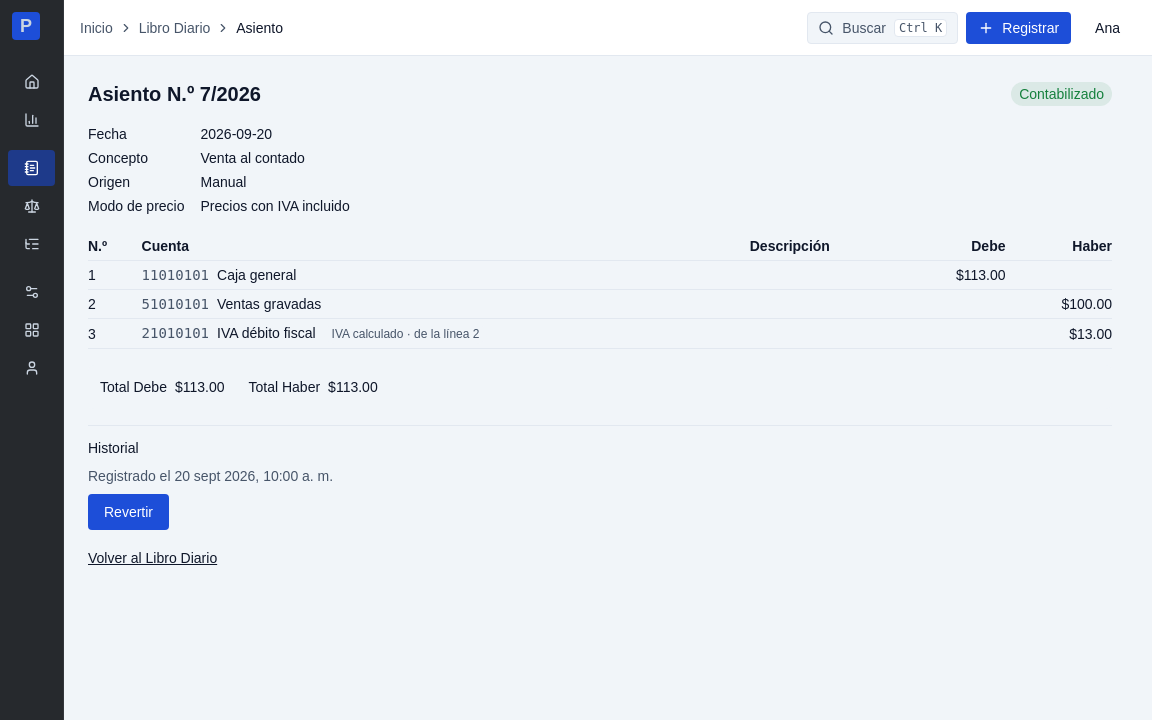
Scenario: detalle de un asiento › no permite una fecha anterior al asiento original (CON-018) y muestra los errores del backend
The width and height of the screenshot is (1152, 720).
Click the button "Revertir" at (128, 512), box [88,494,169,530]
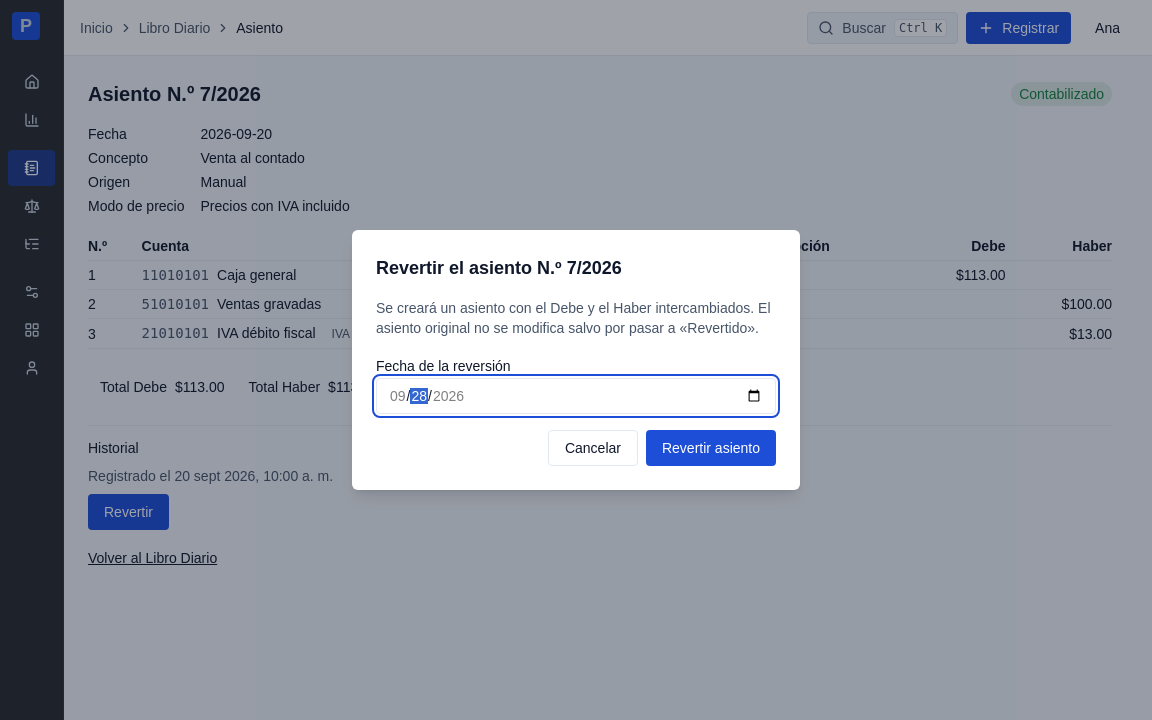
Clear the date field labelled "Fecha de la reversión" at (576, 396), box [376,378,776,414]
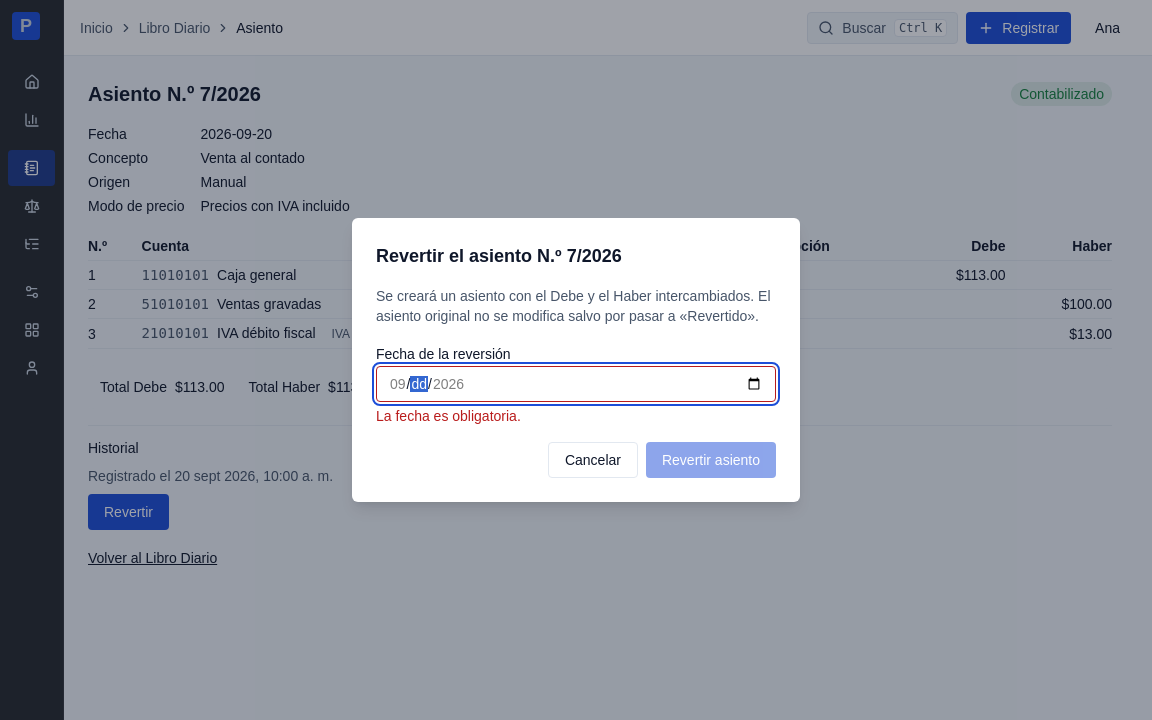
Type "2026-09-19" into the date field labelled "Fecha de la reversión" at (576, 384), box [376,366,776,402]
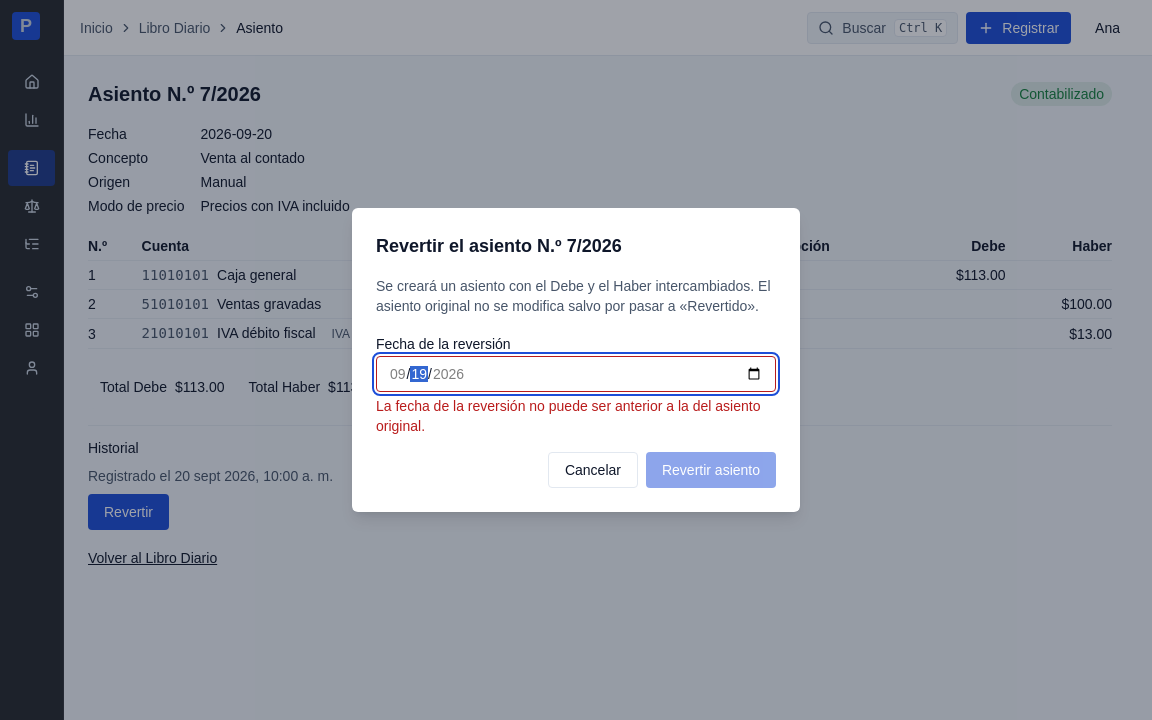
Result: the button "Revertir asiento" is disabled at [646,452,776,488]
Result: the text "La fecha de la reversión no puede ser anterior a la del asiento original." is shown at [376,396,776,436]
Note: Con una fecha válida, un 409 CON-008 del backend se muestra en el diálogo
Clear the date field labelled "Fecha de la reversión" at (576, 374), box [376,356,776,392]
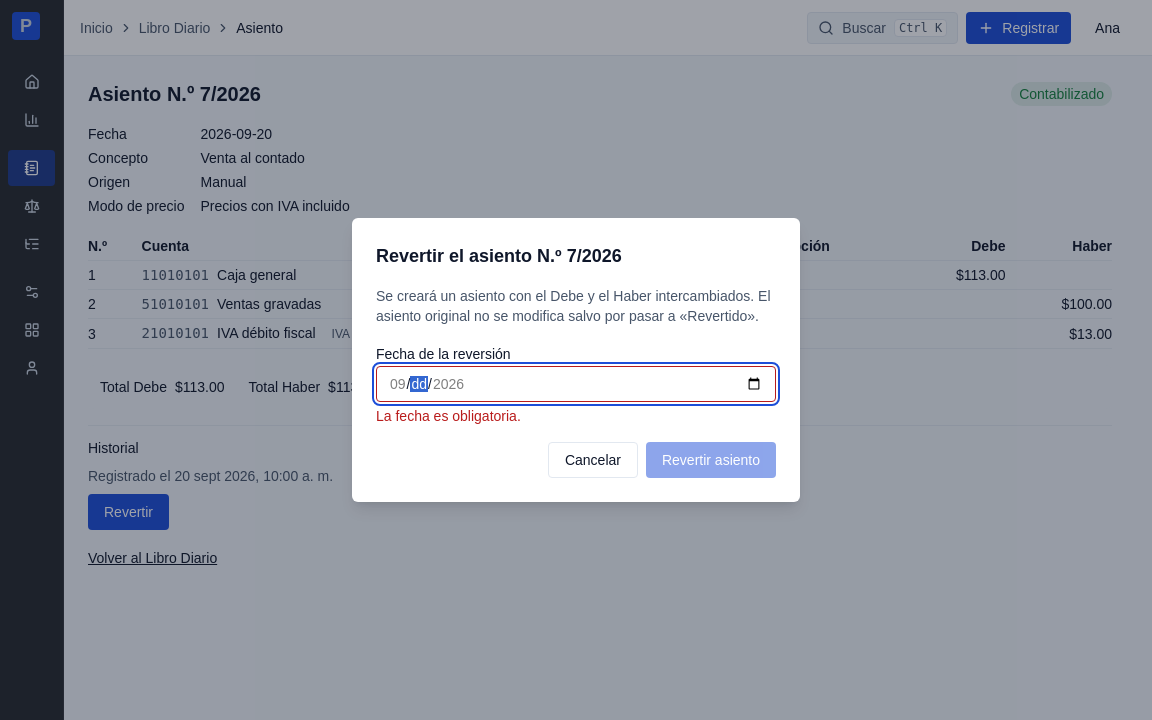
Type "2026-09-21" into the date field labelled "Fecha de la reversión" at (576, 384), box [376,366,776,402]
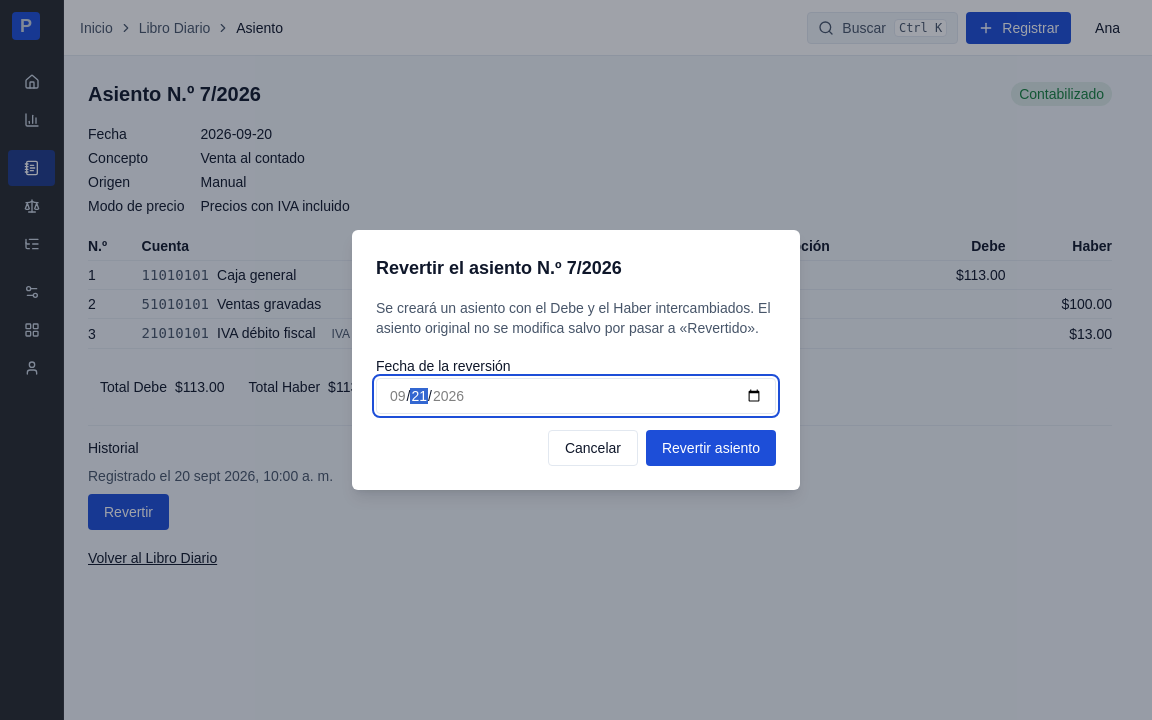
Click the button "Revertir asiento" at (711, 448), box [646,430,776,466]
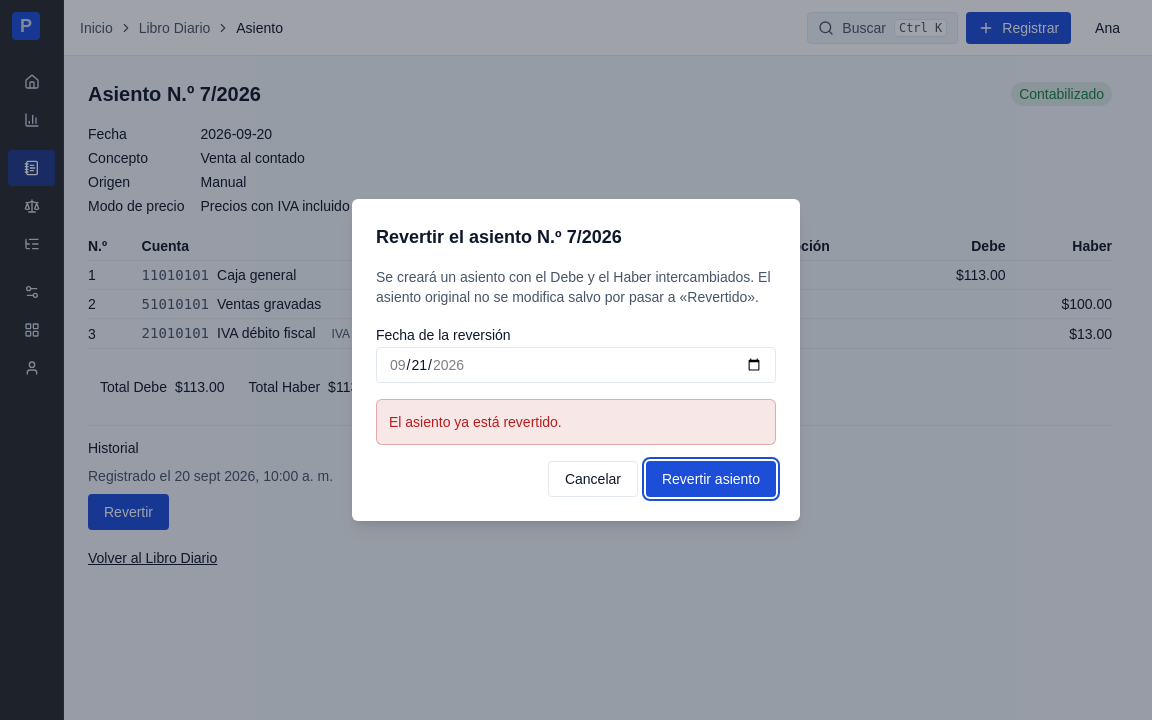
Result: the text "El asiento ya está revertido." is shown at [376,399,776,445]
